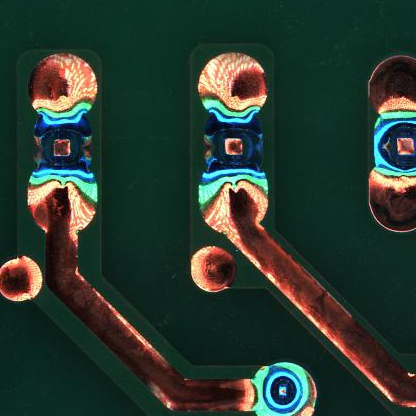spot: (31, 111, 94, 178), (203, 111, 263, 176), (255, 361, 317, 416), (371, 112, 416, 173)
